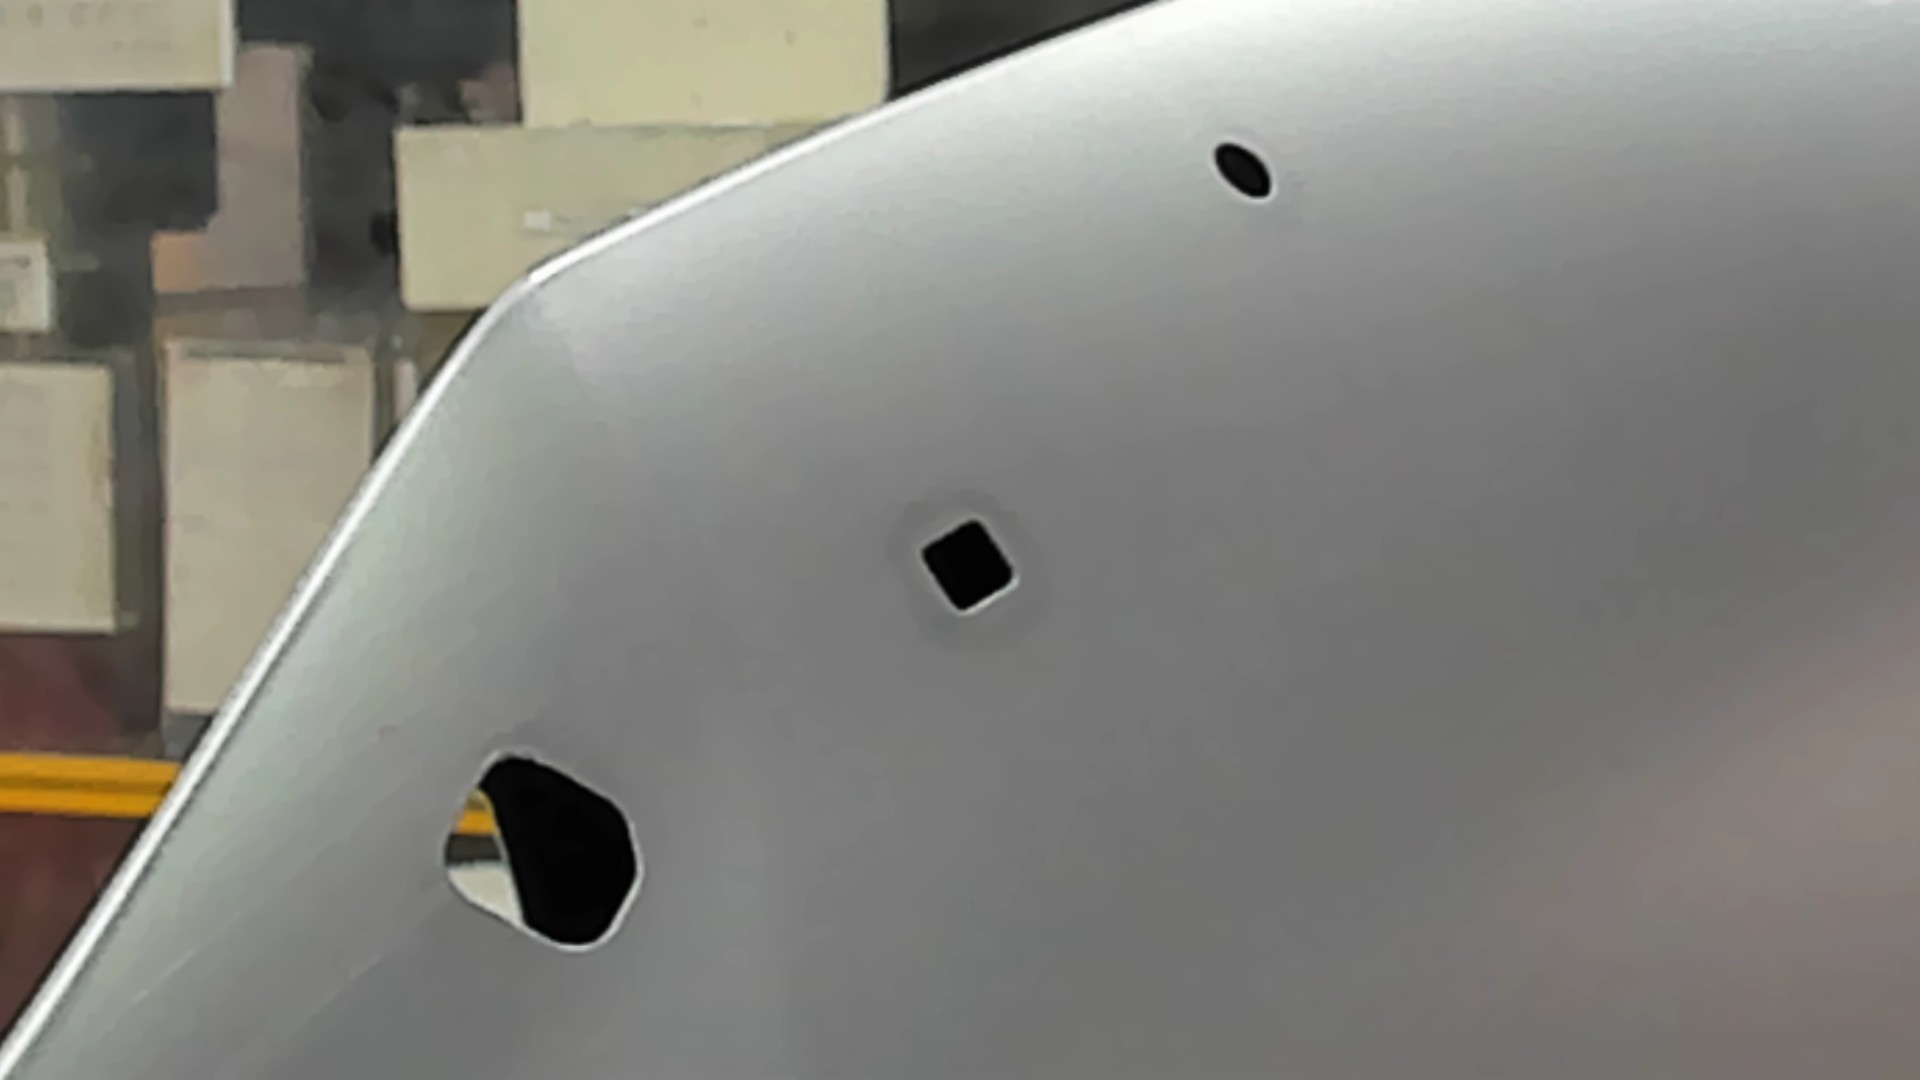chico: (1209, 136, 1276, 204)
grande: (438, 745, 651, 953)
mediano: (919, 516, 1023, 617)
